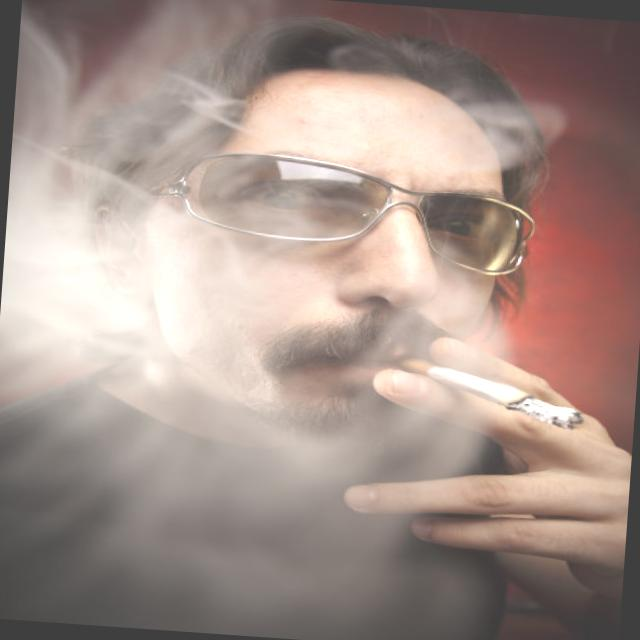smoke: (423, 366, 589, 432)
